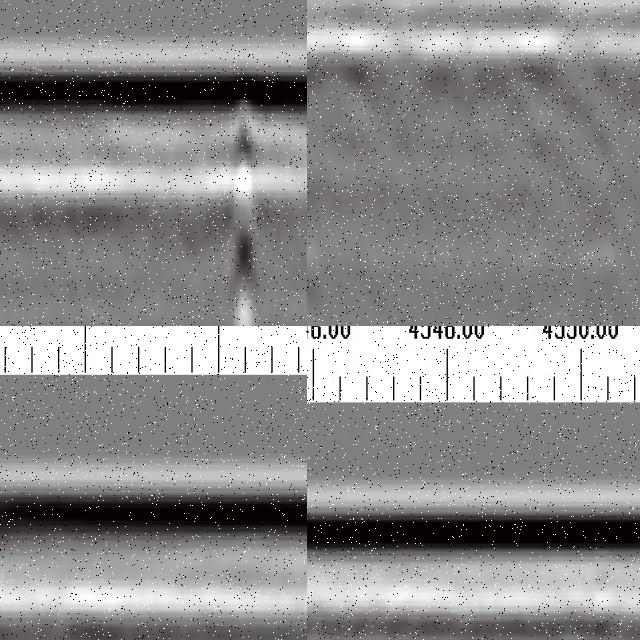crack: (227, 99, 258, 327)
